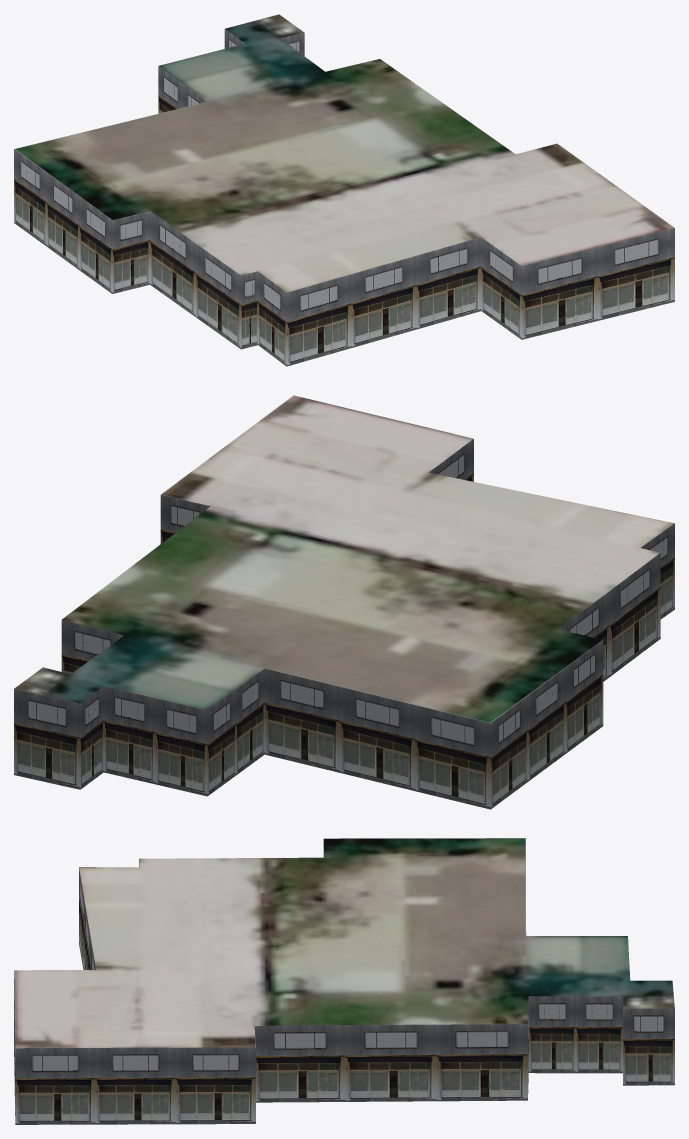
Rendered from T_1SVQ94NXUN.dae.
3 views of the same model, one above another, from view 1: azimuth 30°, elevation 25°; view 2: azimuth 150°, elevation 25°; view 3: azimuth 270°, elevation 25° (orthographic). The views are drawn at different scales.
Parts seen in each view (by area): view 1: SketchUp (×17); view 2: SketchUp (×20); view 3: SketchUp (×10).
Part boxes in pixels (x1,y1,x2,y2): SketchUp (×17): [14, 14, 674, 366]; SketchUp (×20): [14, 395, 674, 809]; SketchUp (×10): [14, 838, 674, 1124].
Size of the model in its own units: 31.95 by 42.48 by 5.44.
3 materials, 3 textured.
